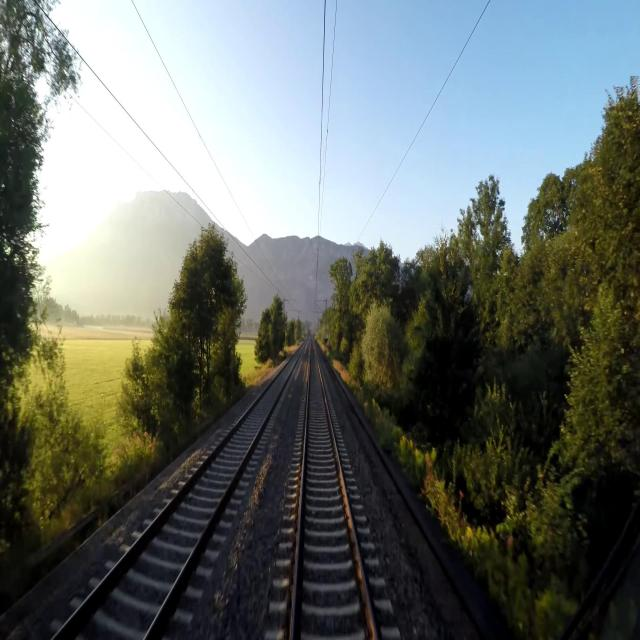rail-track: (56, 351, 299, 639), (294, 344, 374, 639)
